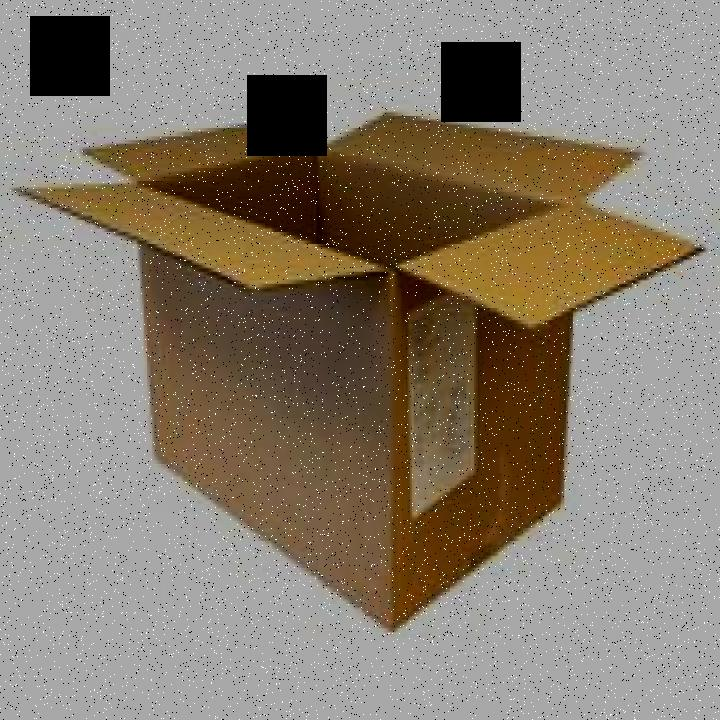box: (2, 76, 718, 635)
